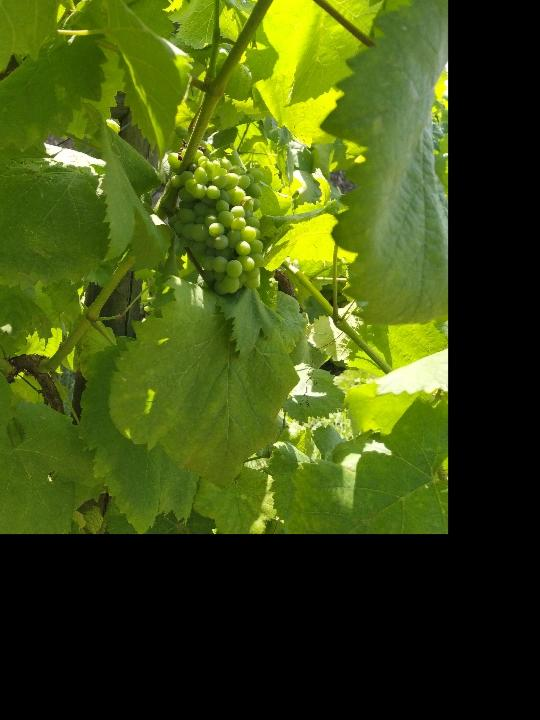grape: (165, 143, 267, 296)
